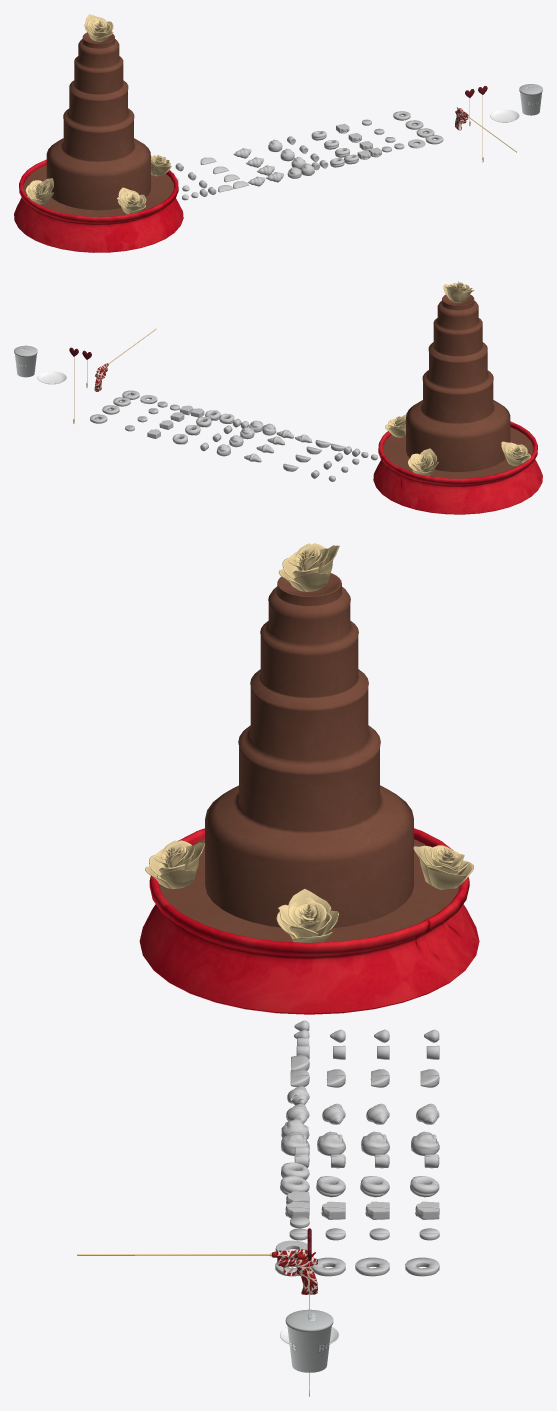
The model's file is Chocolate Fountain.fbx.
3 views of the same model, one above another, from view 1: azimuth 30°, elevation 25°; view 2: azimuth 150°, elevation 25°; view 3: azimuth 270°, elevation 25° (orthographic). The views are drawn at different scales.
Parts seen in each view (by area): view 1: Chocolate Fountain Choco, Chocolate Fountain, Reset, Plate, Real Charger; view 2: Chocolate Fountain Choco, Chocolate Fountain, Reset, Plate, Real Charger; view 3: Chocolate Fountain Choco, Chocolate Fountain, Reset, Real Charger.
Part boxes in pixels (x1,y1,x2,y2): Chocolate Fountain Choco: (23,32,173,216); Chocolate Fountain: (14,14,183,252); Reset: (519,84,542,115); Plate: (490,109,519,122); Real Charger: (455,107,516,152); Chocolate Fountain Choco: (383,294,533,478); Chocolate Fountain: (373,281,542,514); Reset: (14,345,37,377); Plate: (37,371,66,384); Real Charger: (94,328,156,391); Chocolate Fountain Choco: (159,573,459,942); Chocolate Fountain: (139,543,479,1014); Reset: (285,1309,333,1372); Real Charger: (77,1249,317,1294).
Bounding box in the file's own units: 3.46 × 1.52 × 1.17.
